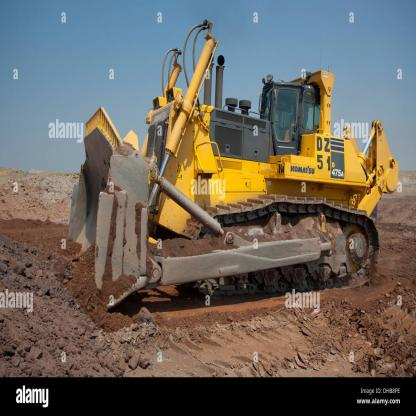bull_dozer/loader/grader: (62, 14, 394, 319)
